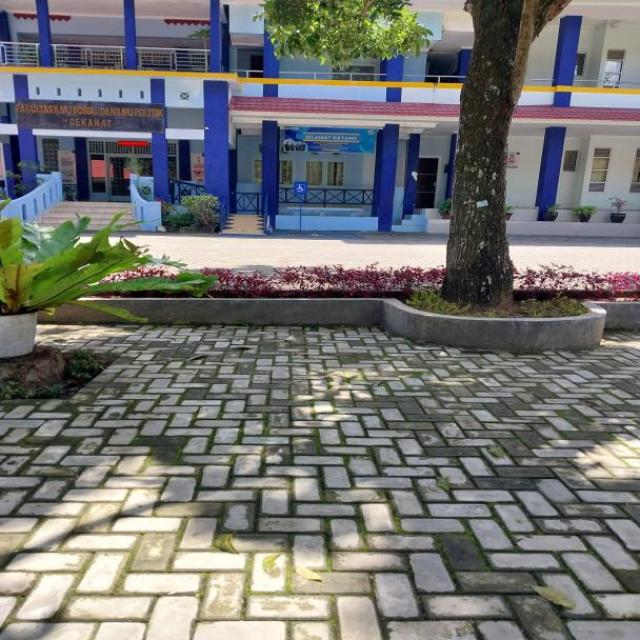tree ahead at: (438, 0, 530, 313)
